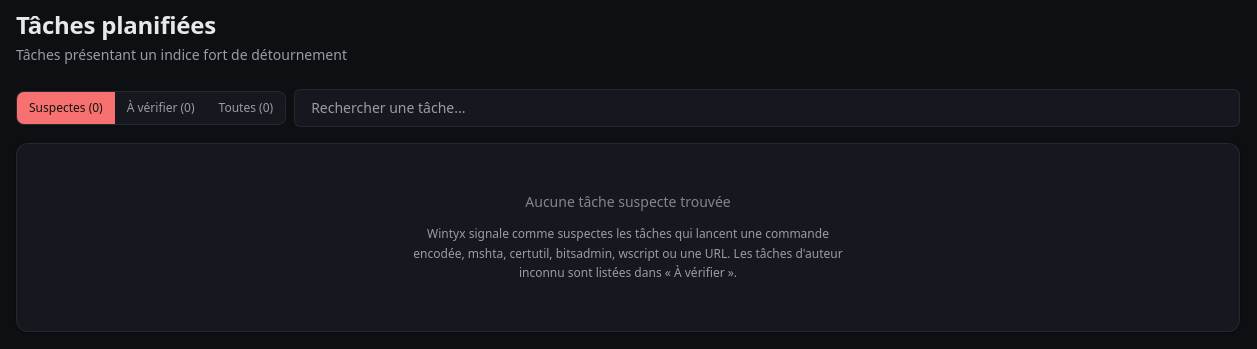
Test: TasksPage niveaux de signalement › garde le message d'inaccessibilité quand le planificateur est réellement vide
The width and height of the screenshot is (1257, 349).
What coordinates should you click on to do the following:
click the button "Toutes (0)"
I would click on:
 (246, 108)
Its box is left=207, top=92, right=285, bottom=124.
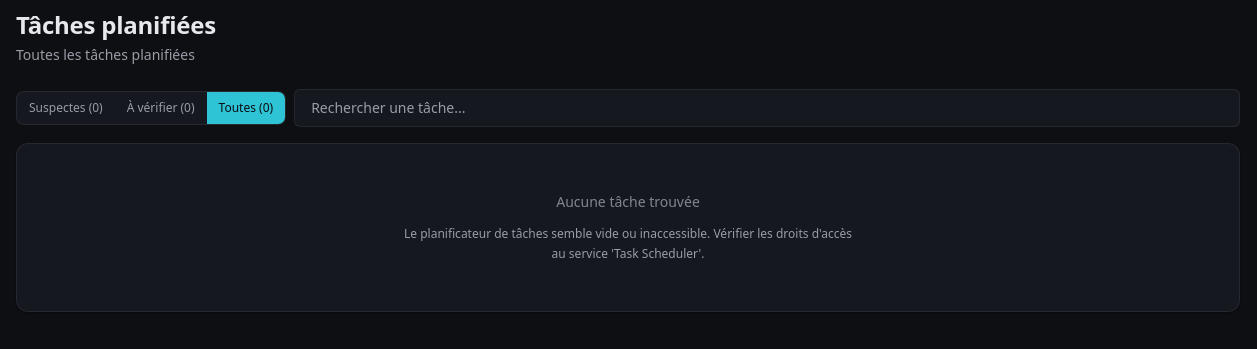
Result: the text "semble vide ou inaccessible" is shown at left=404, top=225, right=852, bottom=262
